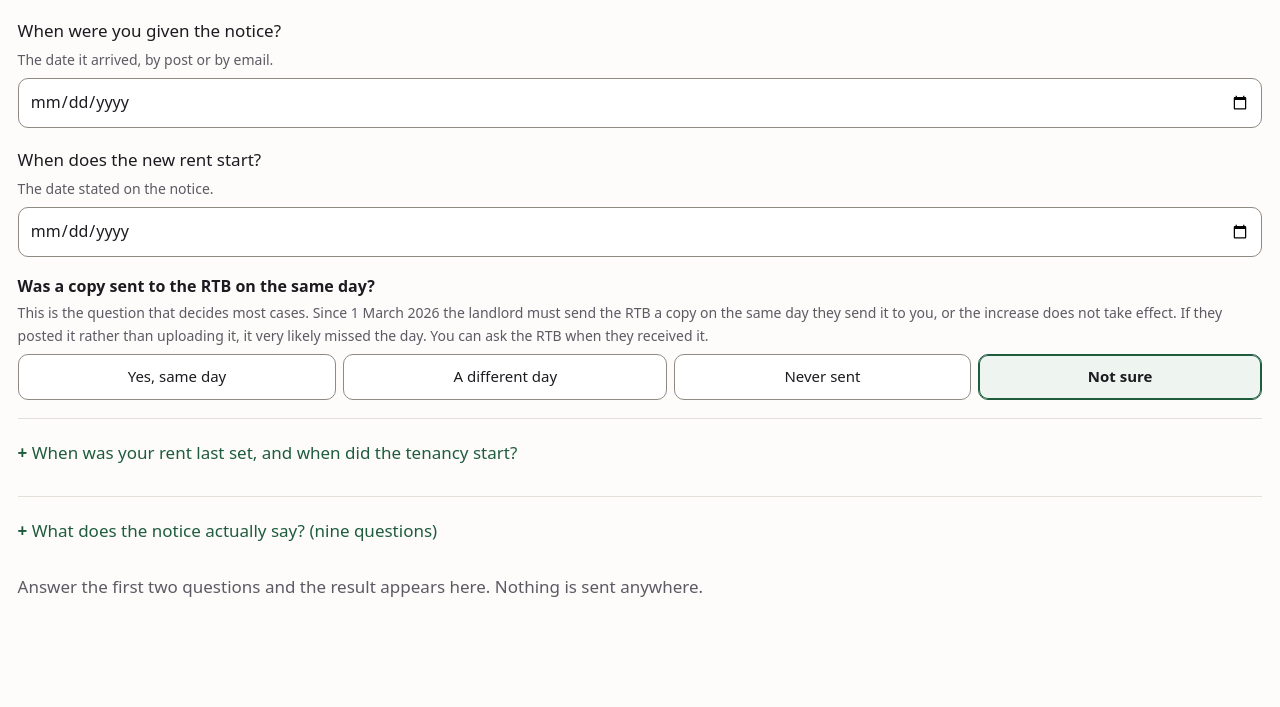
Test: the notice check › catches the case the product exists for
Step 1. Type "2026-06-01" into the date field labelled "When were you given the notice?" → (640, 103), box [18,78,1262,128]
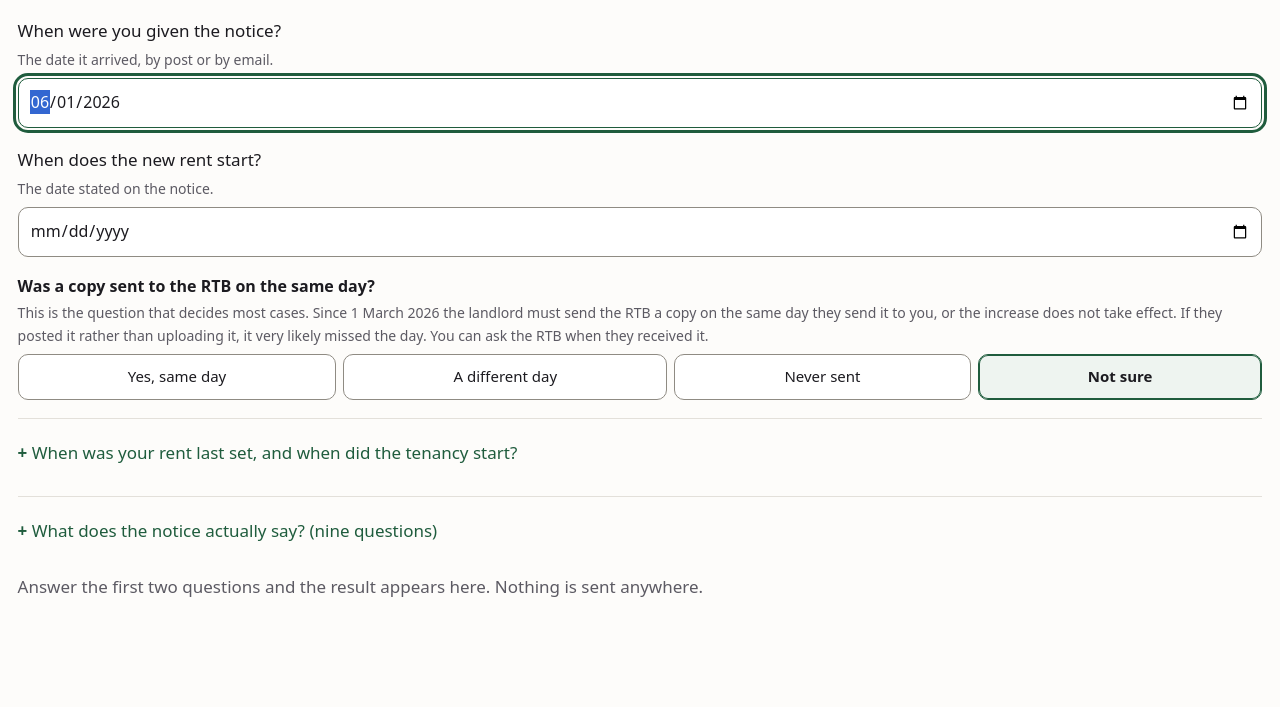
Step 2. Type "2026-09-01" into the date field labelled "When does the new rent start?" → (640, 232), box [18,206,1262,257]
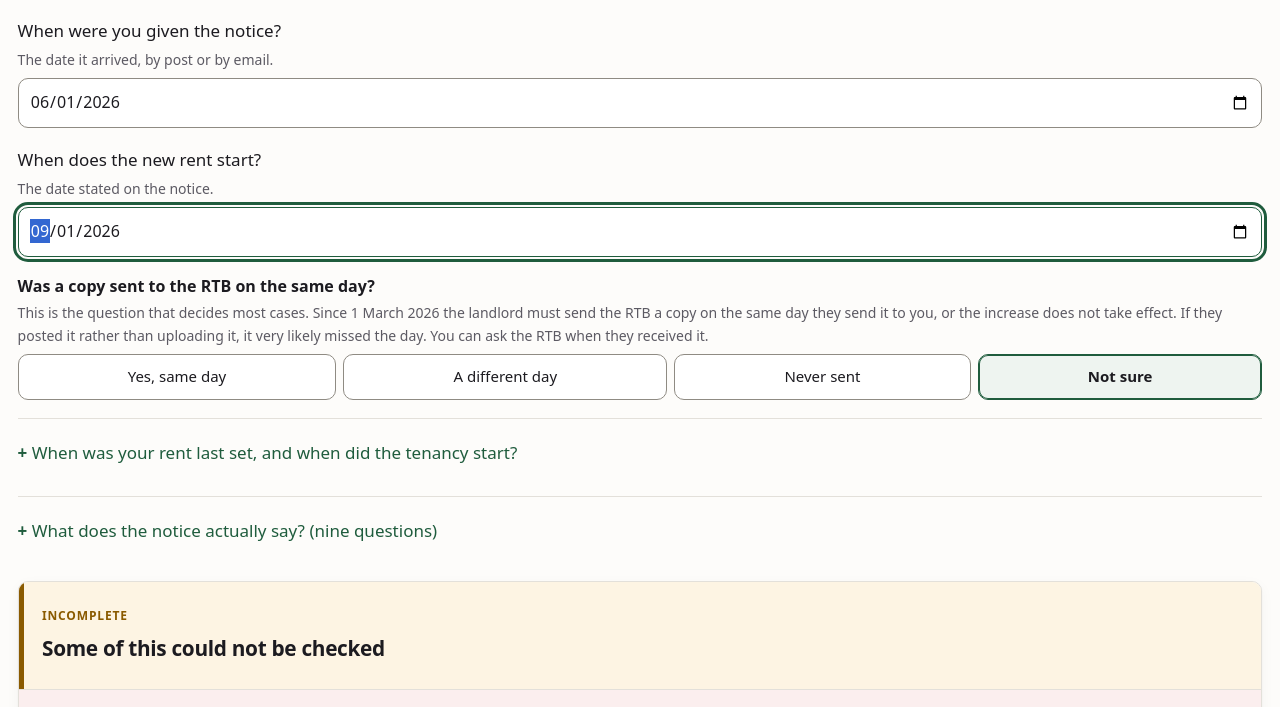
Step 3. Click the radio button labelled "A different day" → (505, 377), box [344,354,667,400]
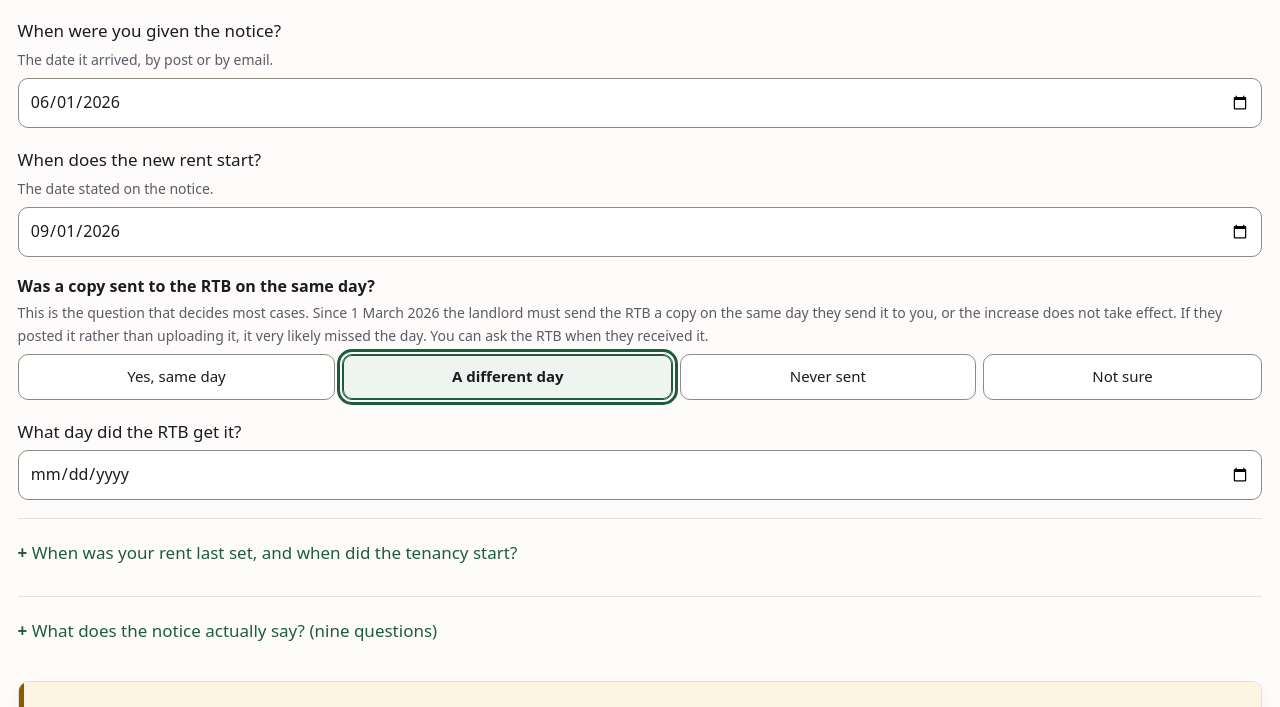
Step 4. Type "2026-06-04" into the date field labelled "What day did the RTB get it?" → (640, 475), box [18,450,1262,500]
(page scrolled)
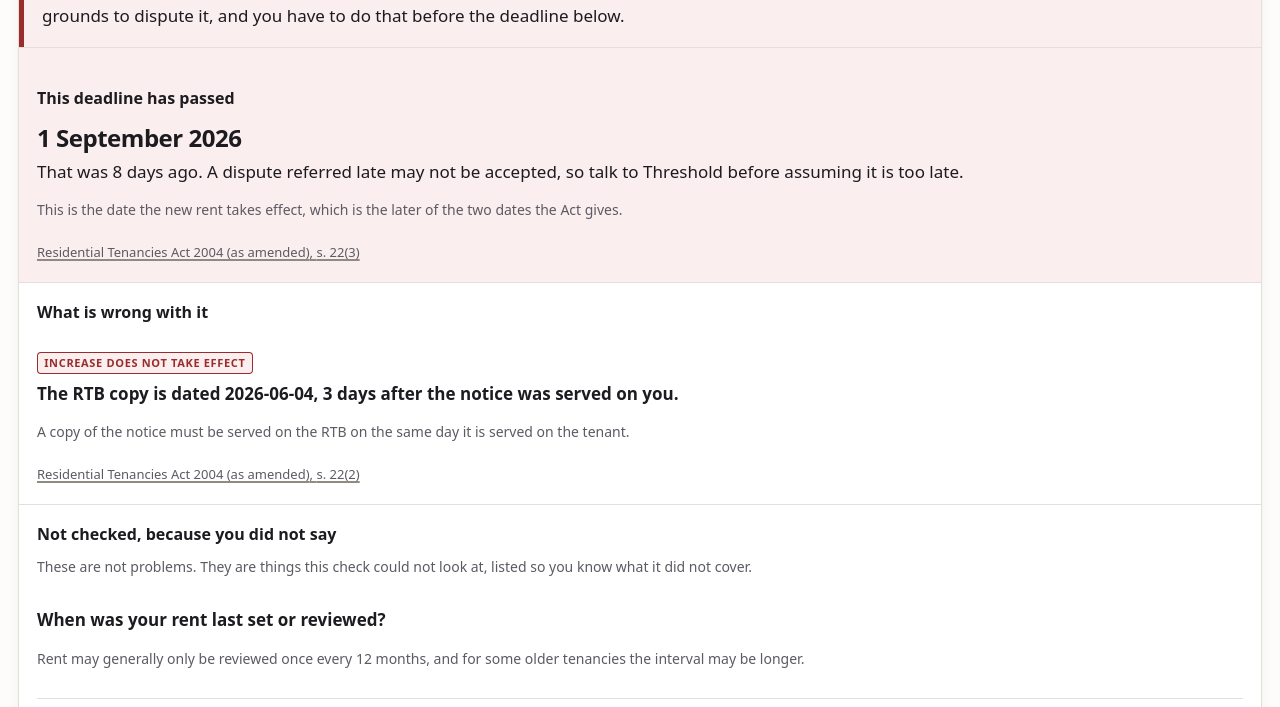
Now the text "3 days after" is shown, box [37,382,679,405]
